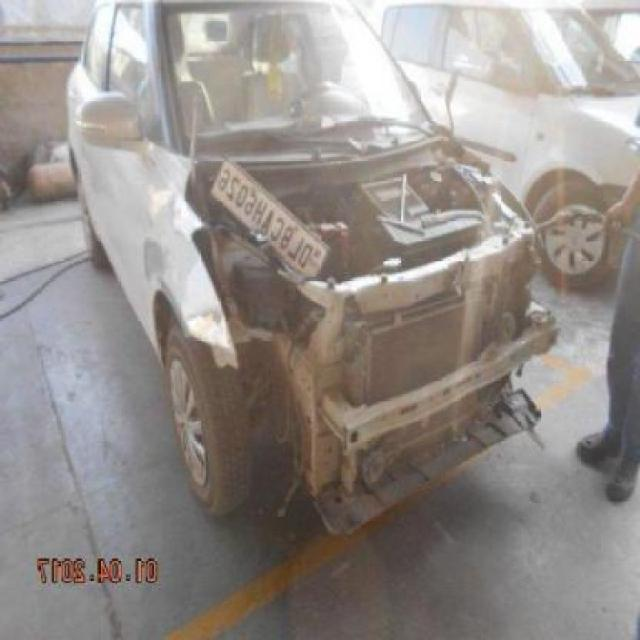damage: (184, 202, 550, 532)
